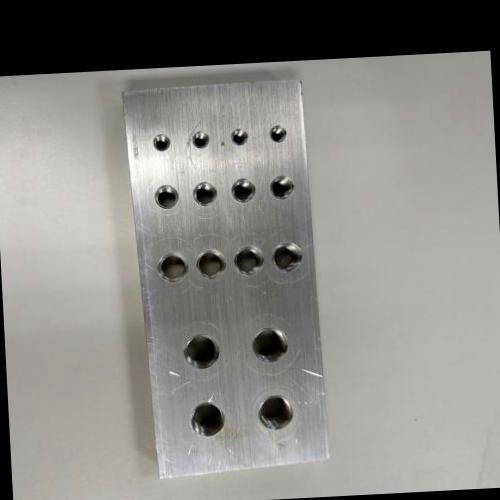hole: (249, 324, 289, 364), (181, 330, 220, 370), (187, 399, 226, 438), (256, 393, 294, 432), (155, 249, 189, 284), (269, 239, 302, 274), (231, 242, 264, 276), (194, 246, 226, 281), (229, 176, 256, 204), (190, 180, 218, 207), (152, 183, 179, 210), (268, 173, 294, 201), (268, 123, 288, 143), (190, 129, 210, 149), (229, 126, 248, 146), (152, 132, 170, 151)
